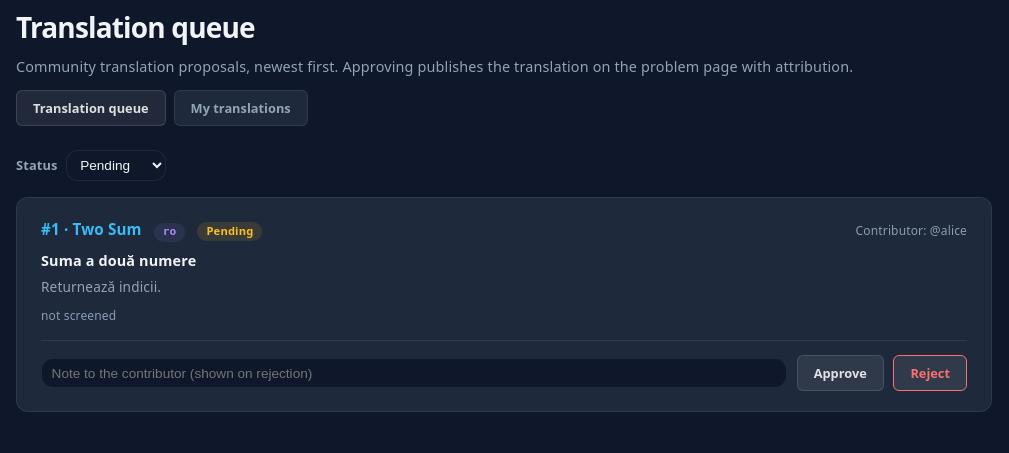
Test: TranslationsPage › approve posts the decision, confirms and reloads the queue
Click the button with test id "approve-btn". click: (840, 373)
box: [797, 355, 884, 391]
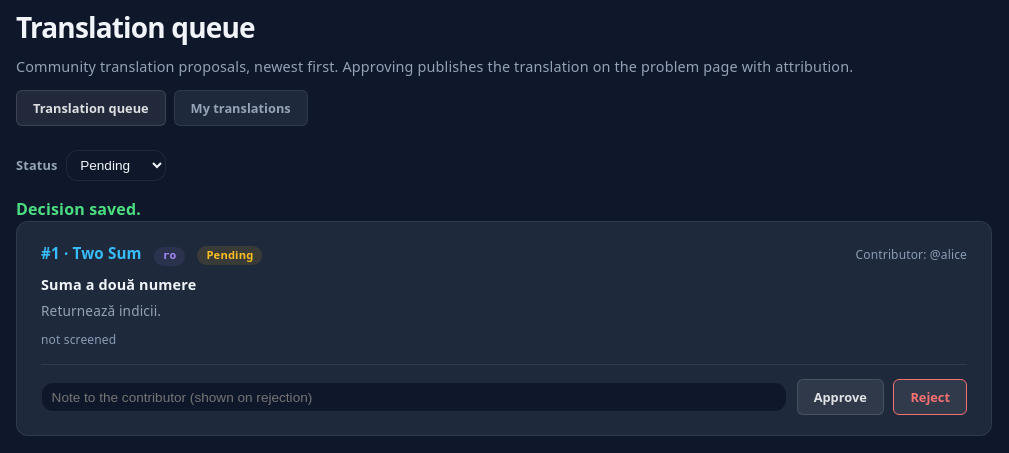
Expected: the message "Decision saved." is shown, [16, 198, 141, 220]
